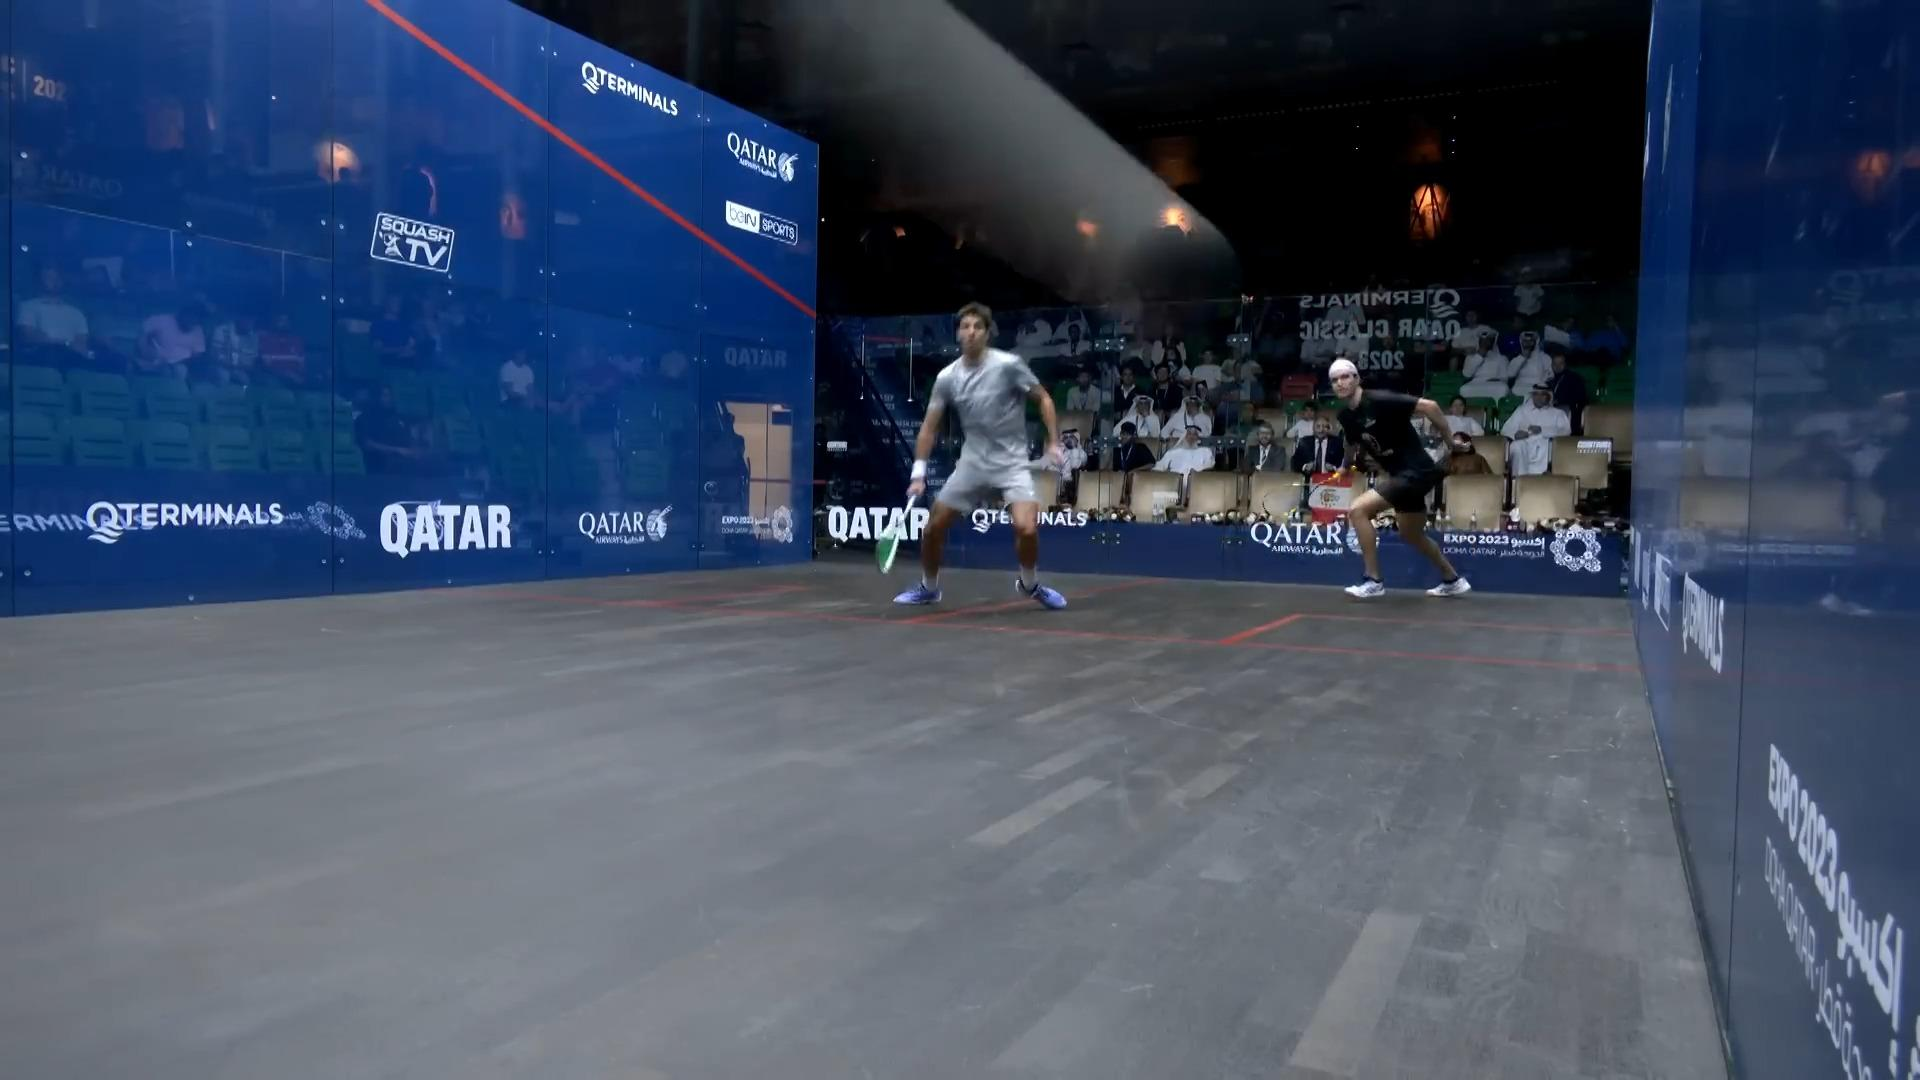Racket: (872, 492, 919, 576)
